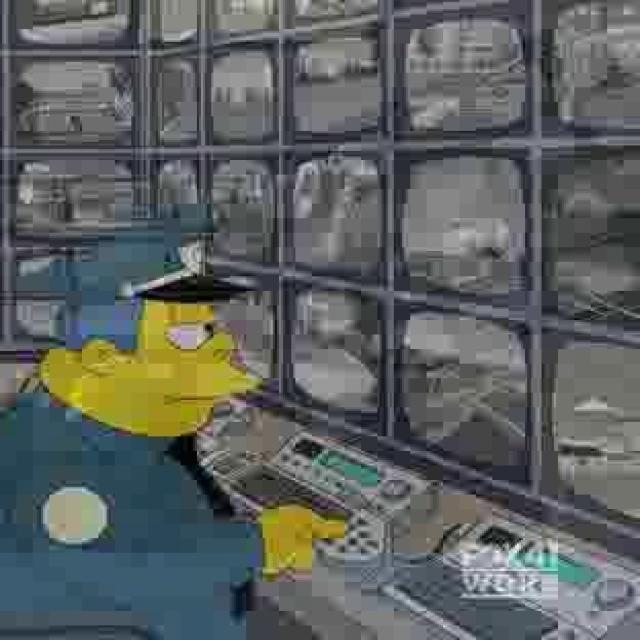Chief Wiggam: (28, 205, 264, 442)
